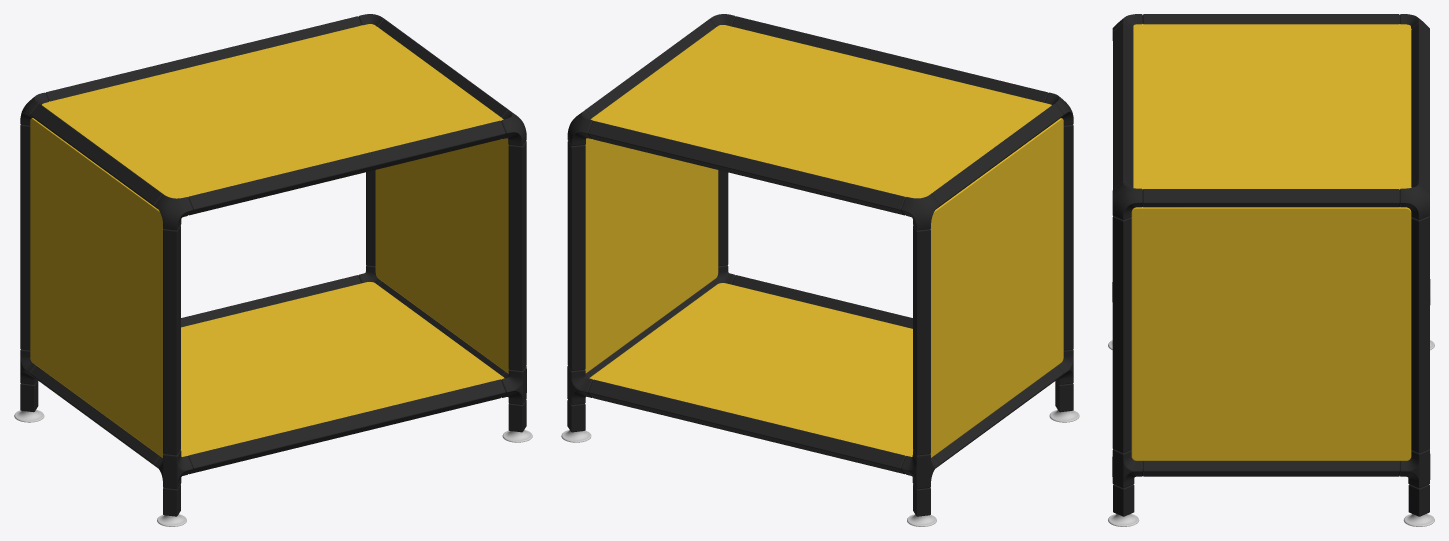
3 renders of one model, left to right at view 1: azimuth 30°, elevation 25°; view 2: azimuth 150°, elevation 25°; view 3: azimuth 270°, elevation 25°, orthographic. The views are drawn at different scales.
Parts seen in each view (by area): view 1: 479x329x329; view 2: 479x329x329; view 3: 479x329x329.
Part boxes in pixels (bbox=[...]): 479x329x329: bbox=[14, 14, 532, 526]; 479x329x329: bbox=[561, 14, 1079, 526]; 479x329x329: bbox=[1108, 14, 1434, 526].
Size of the model in its own units: 0.5689 by 0.4683 by 0.4182.
